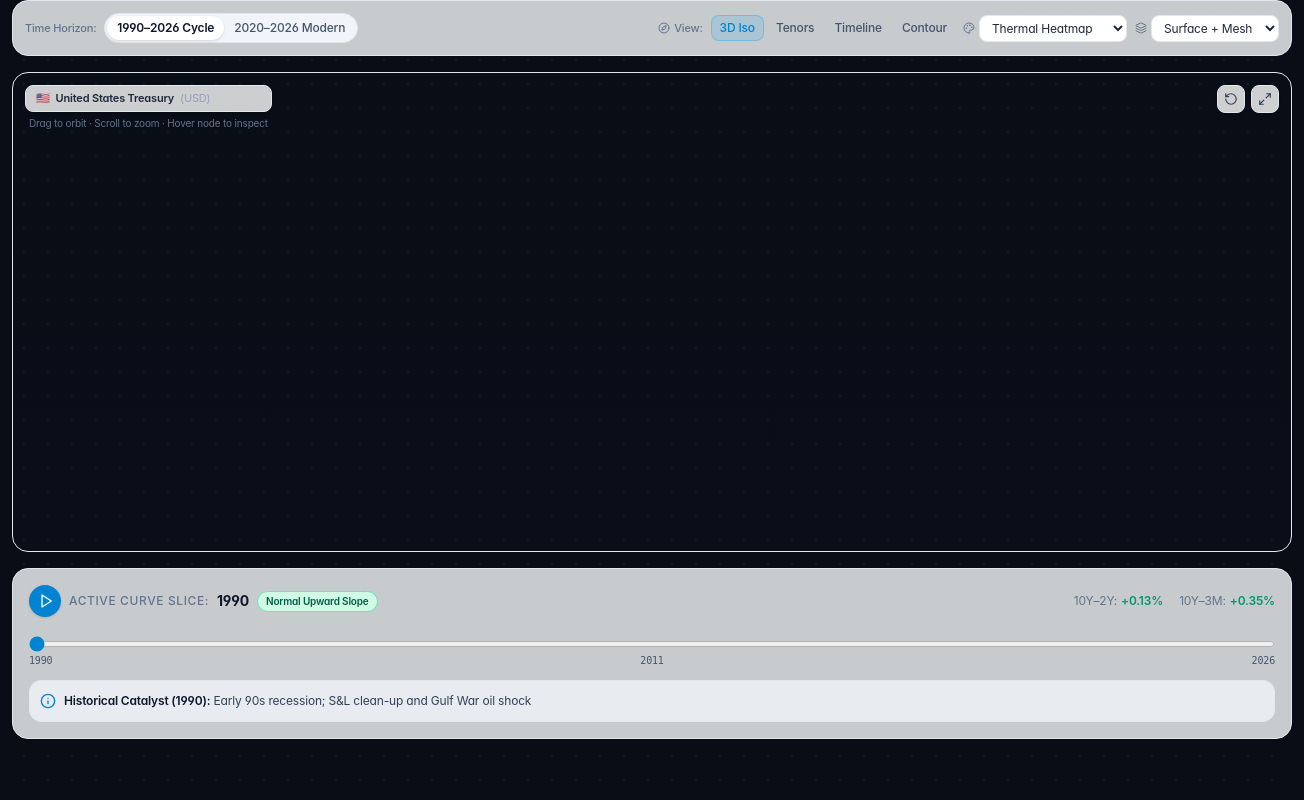
Test case: YieldCurve3DSurface Component › renders timeline playback controls and updates play state
Note: Click play to initiate timeline sweep
Click the button titled "Play Historical Curve Sweep". click: point(45, 601)
box: [29,585,61,617]
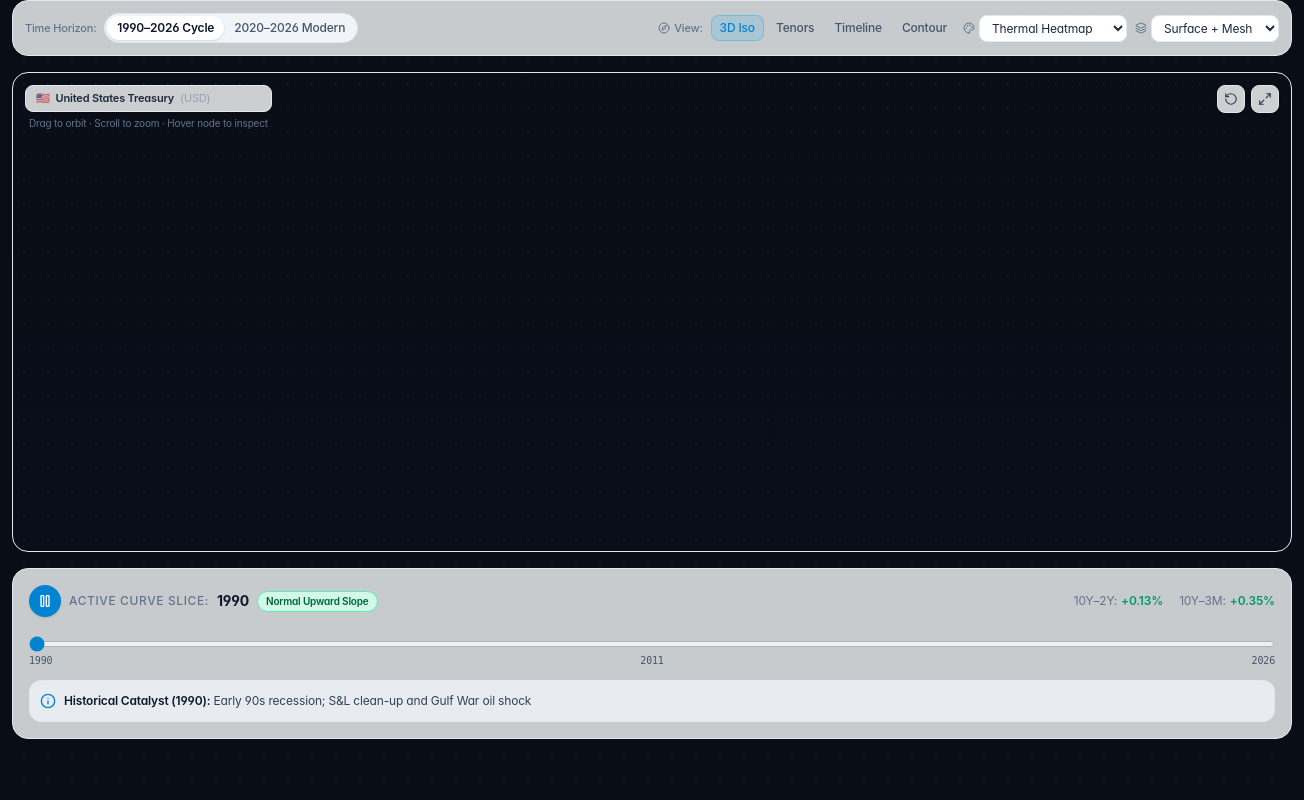
Now the button titled "Pause Timeline Sweep" is shown
Note: Click pause to stop
Click the button titled "Pause Timeline Sweep". click: point(45, 601)
box: [29,585,61,617]
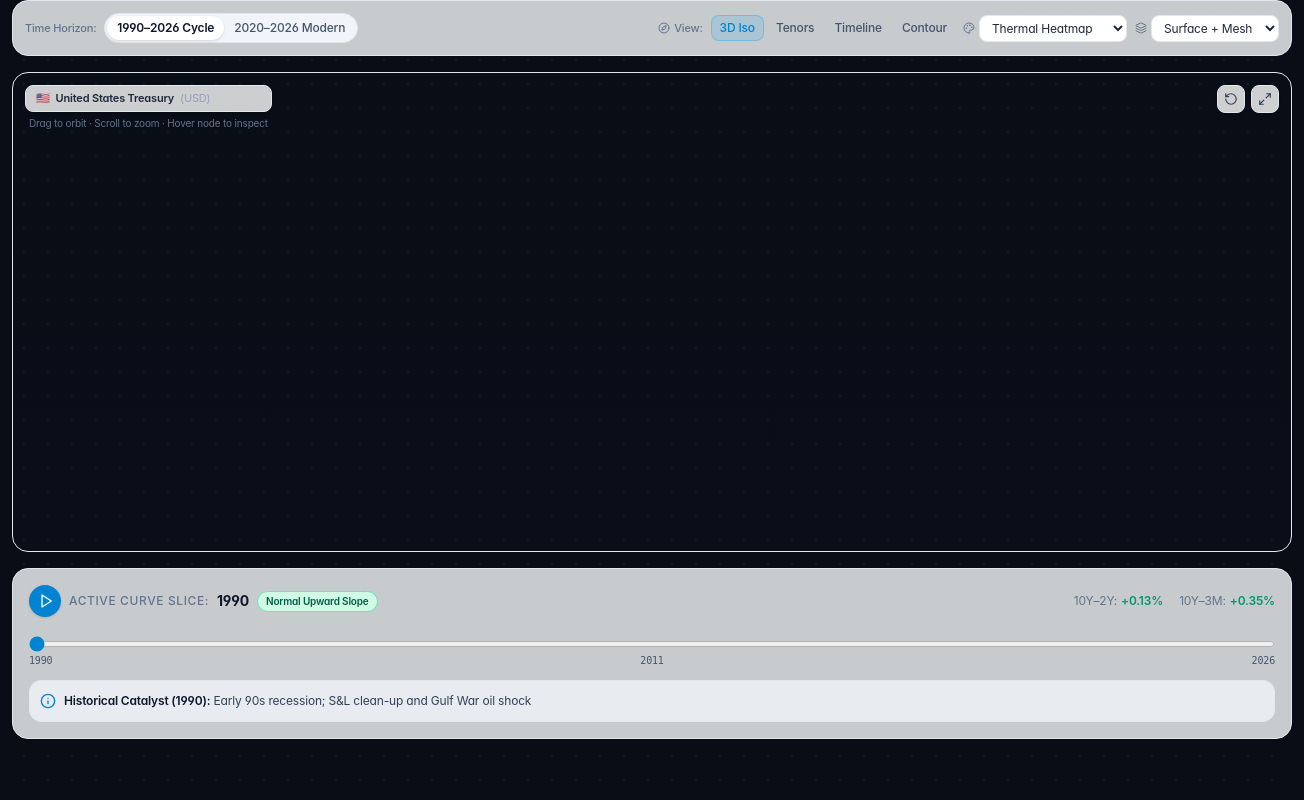
Now the button titled "Play Historical Curve Sweep" is shown, box [29,585,61,617]
